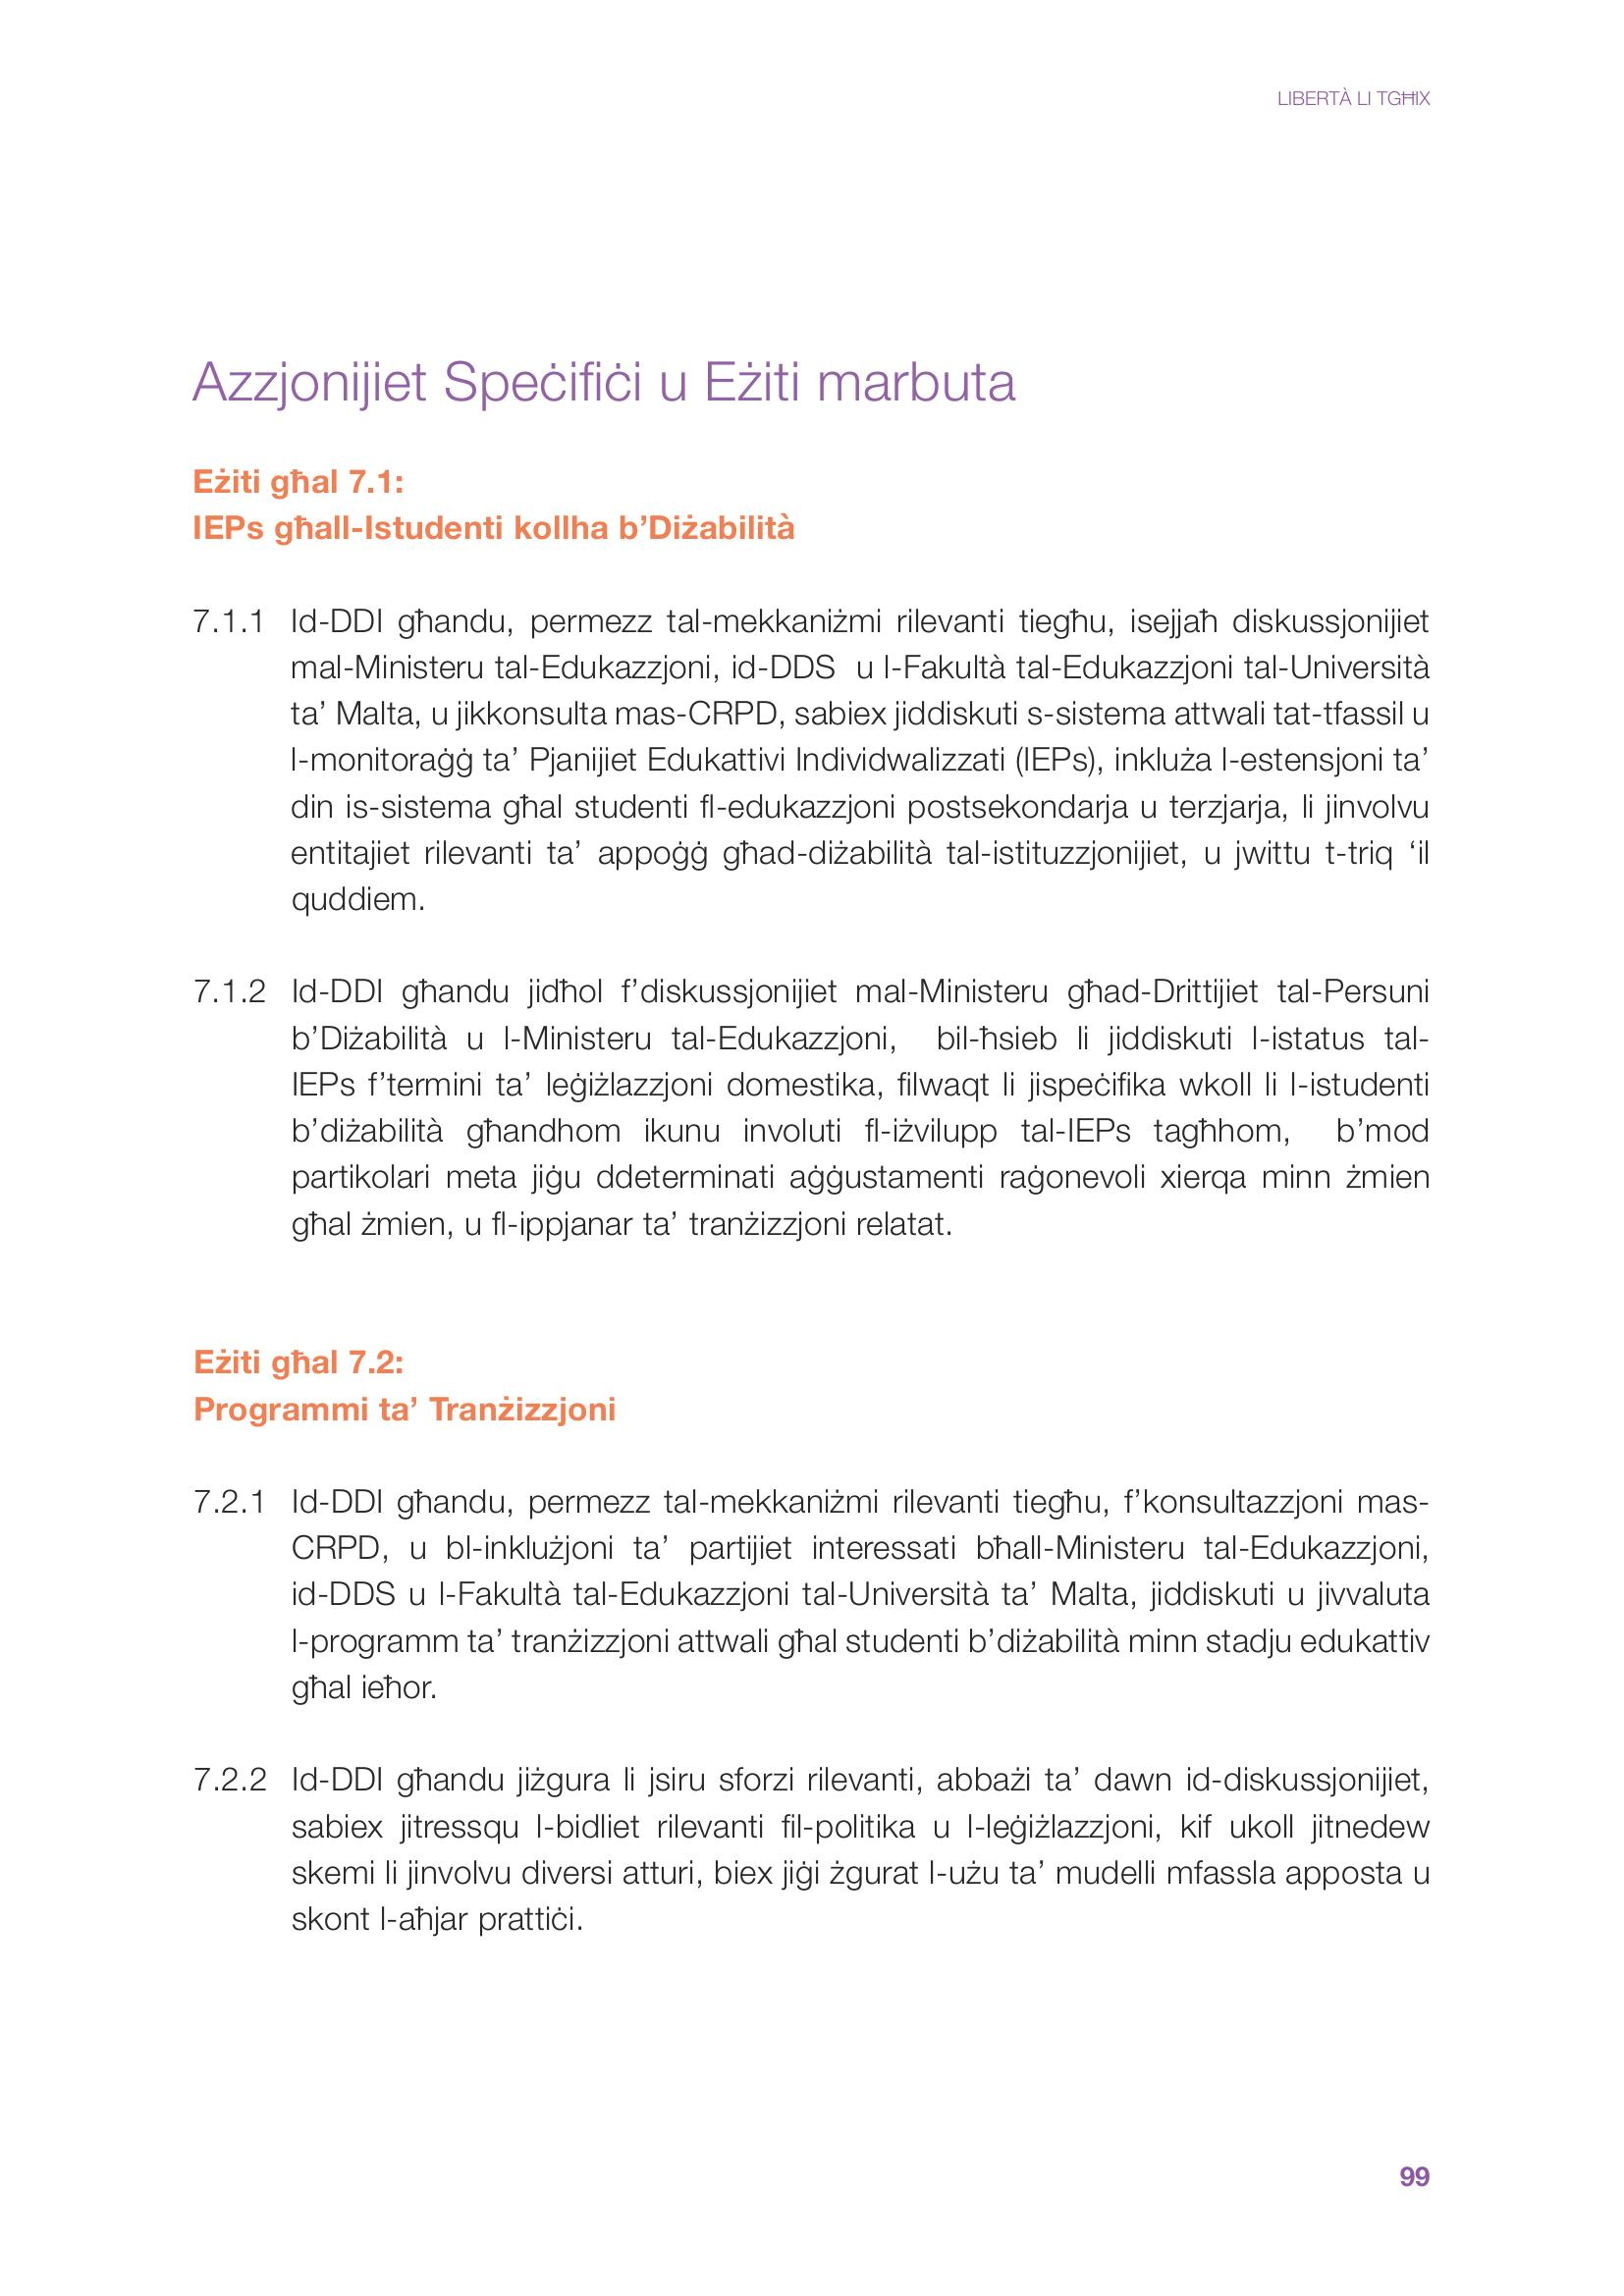text: (169, 334, 1478, 1975)
